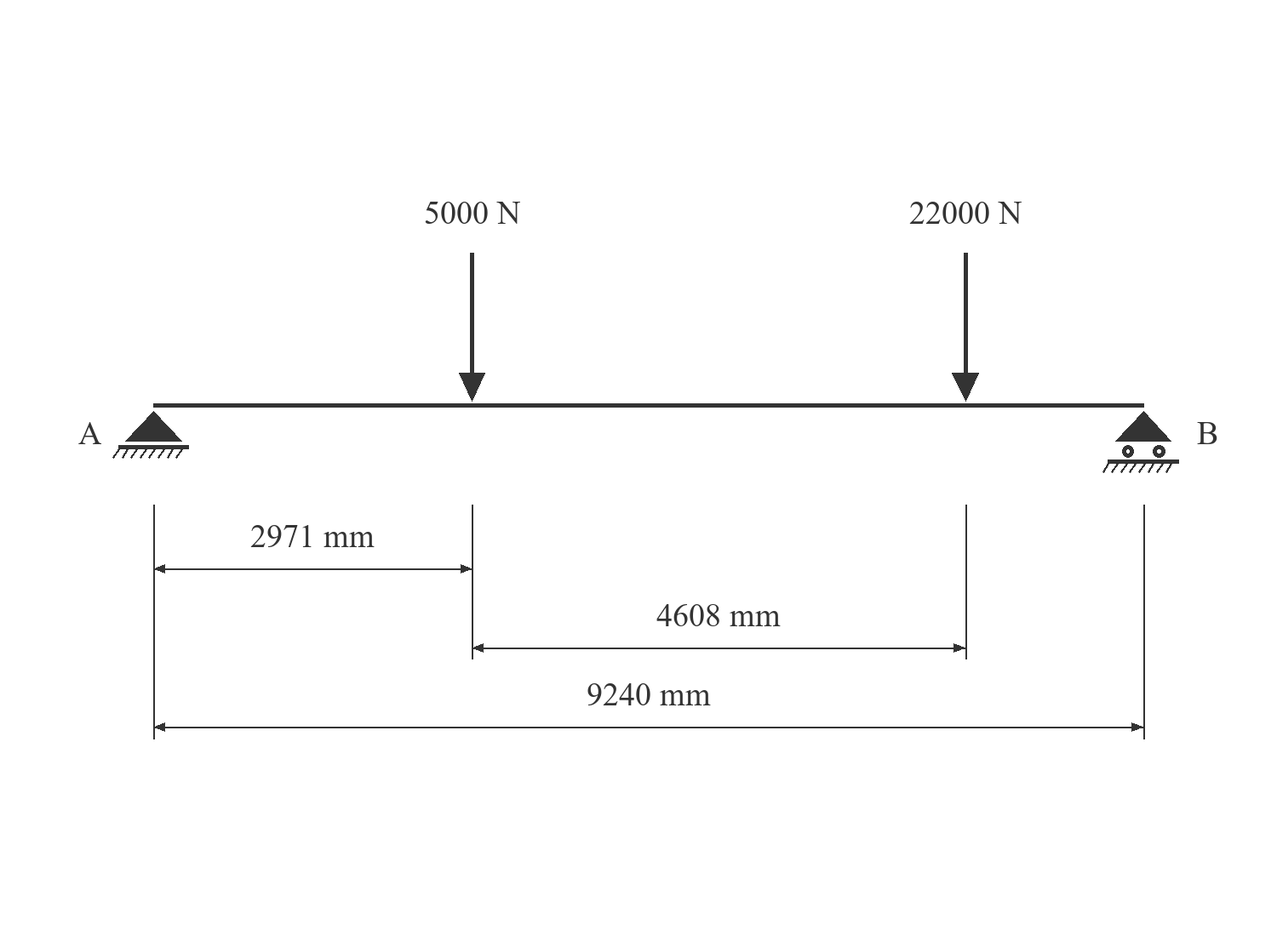pin_support: (112, 411, 189, 459)
point_load: (952, 253, 979, 402), (459, 253, 485, 402)
roller_support: (1102, 411, 1179, 473)
